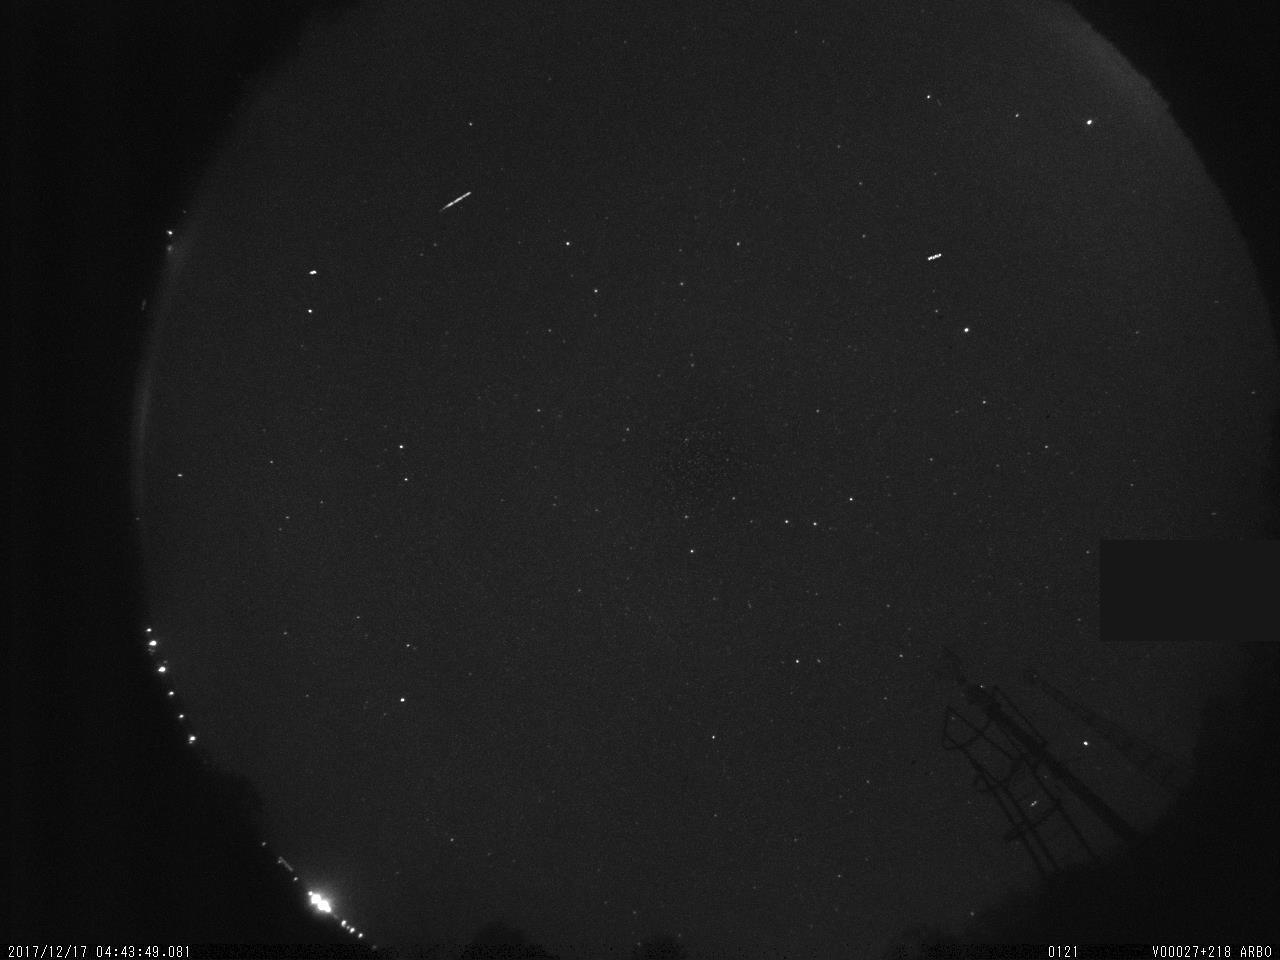meteor: (437, 185, 480, 222)
satelite: (923, 243, 949, 271)
